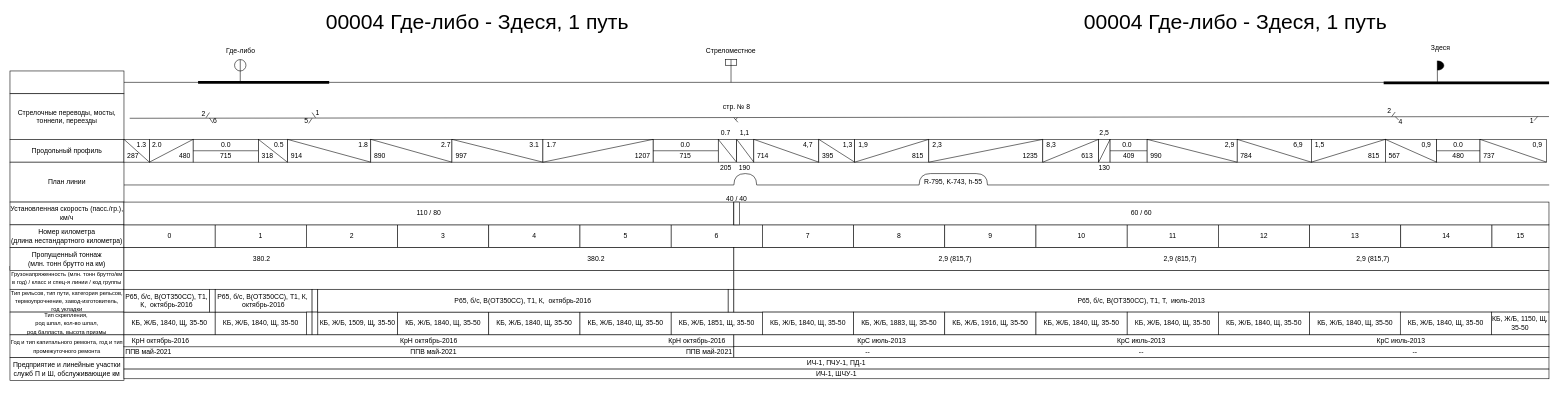
Image size: 1561x396. Some labels were removed from this diagram. The centre of each missing label's shape, as x and y in pixels:
"0,3 / 4Г / 4V 0,3 / 4Г / 4V" belongs at point (1141, 279).
"51.7 / 1T / 2II 51.7 / 1T / 2II" belongs at point (428, 279).
"Раздельные пункты" belongs at point (66, 82).
